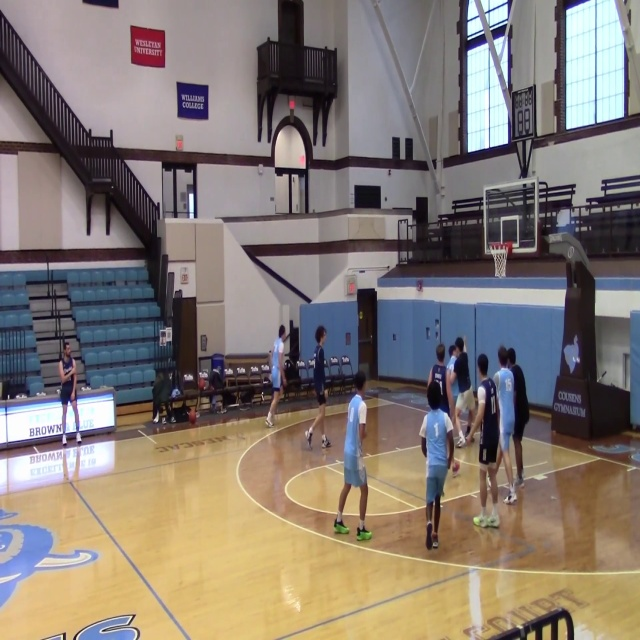Basketball: (452, 459, 460, 473), (288, 99, 295, 109)
